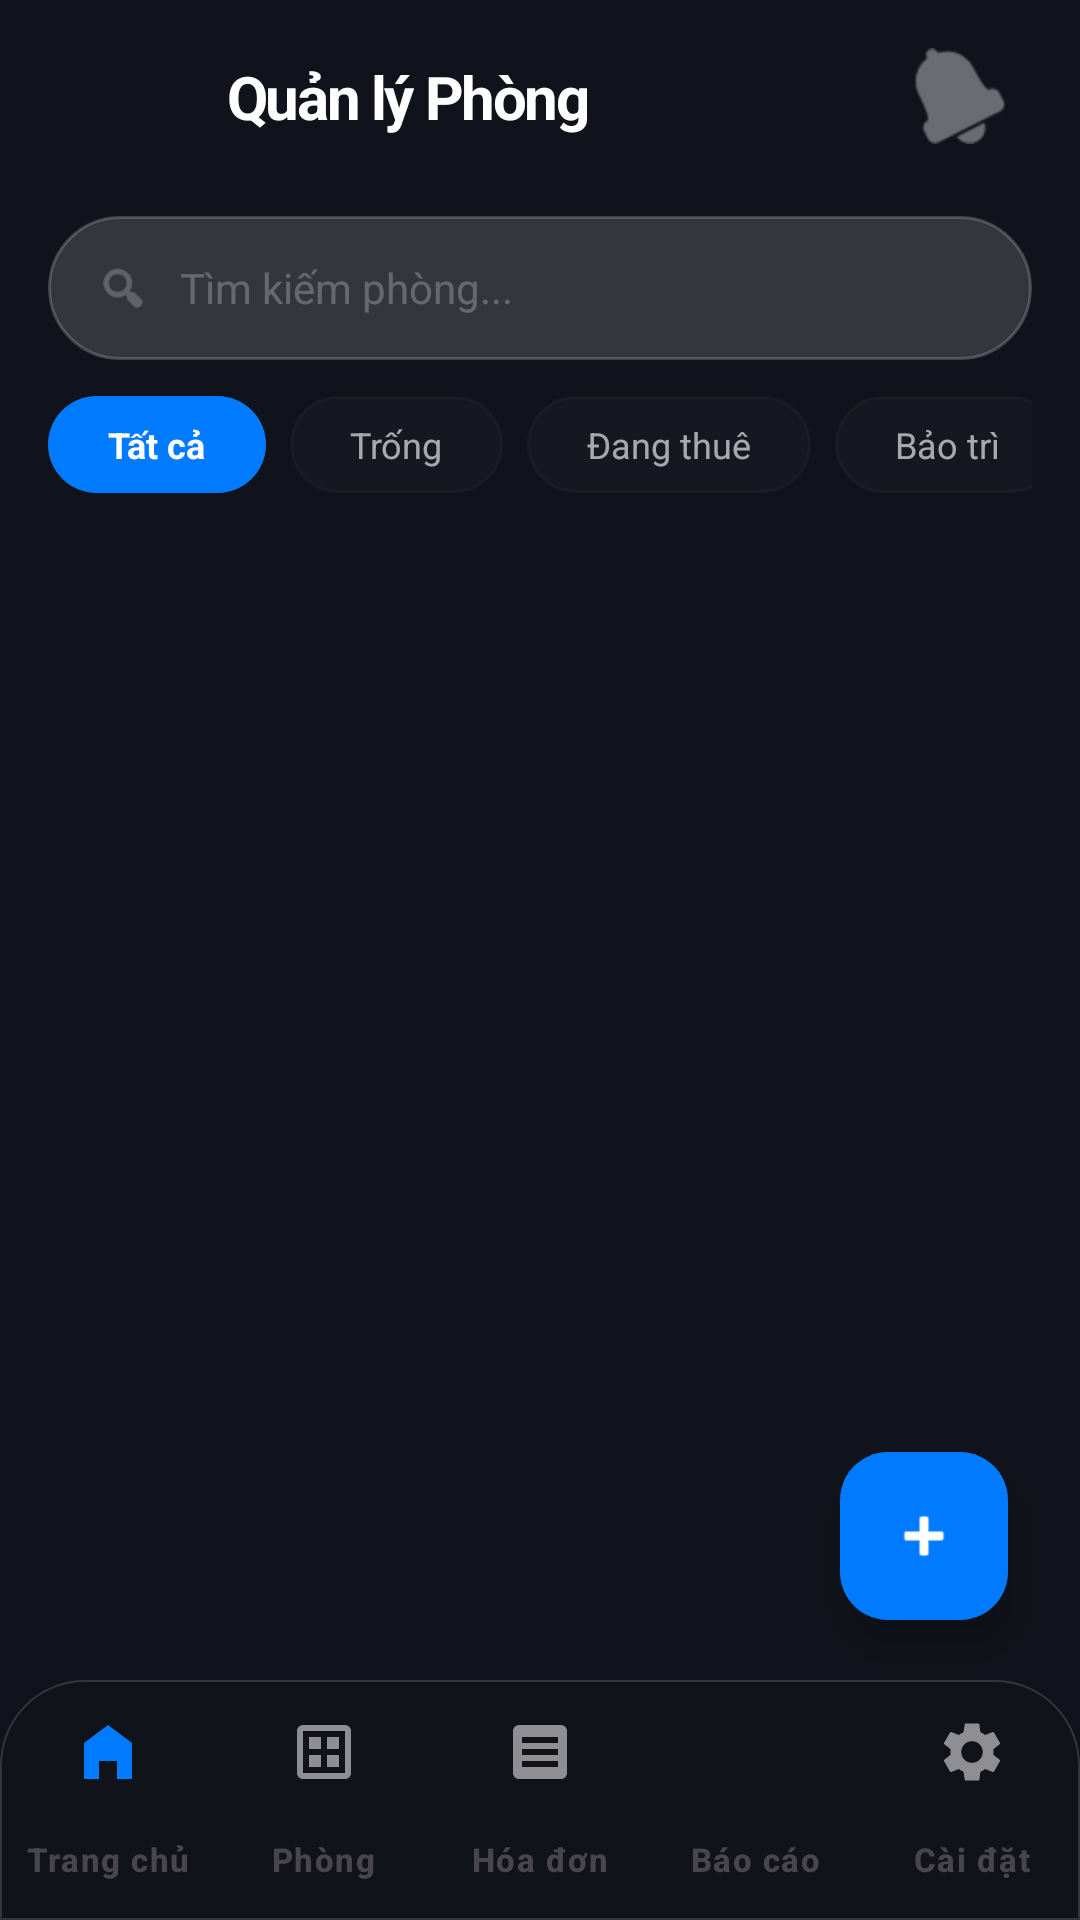

Icons on this 1080 × 1920 Android screen, each with the point to tap as (x=x, y=y):
Thêm phòng mới: (x=924, y=1536)
Thông báo: (x=960, y=96)
